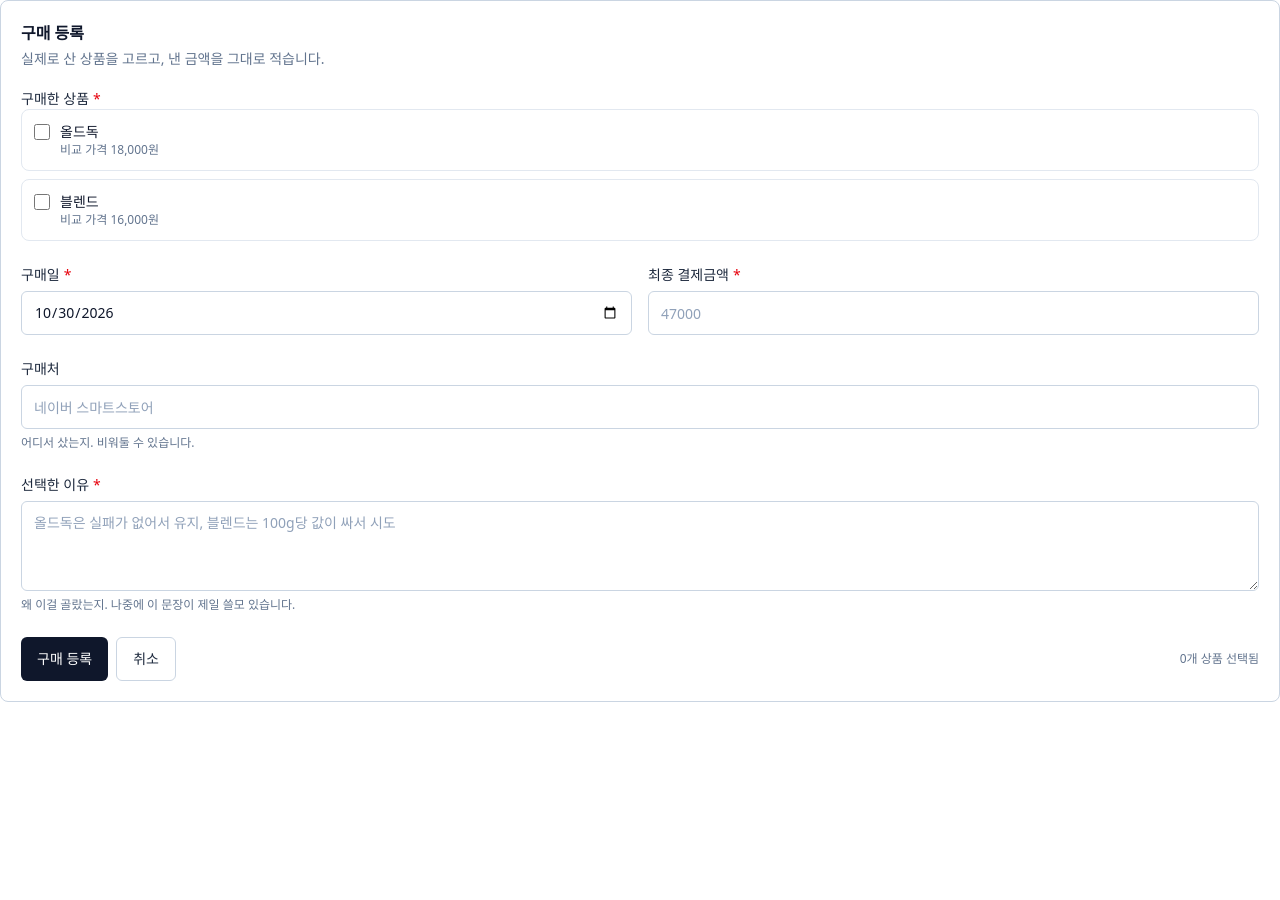
it: 블록 31 — 패널의 첫 모습 › 선택한 상품 개수를 보여준다
expect the text "0개 상품 선택됨" is shown: met, box left=1180, top=651, right=1259, bottom=667
Step 1. Click the checkbox labelled "올드독 비교 가격 18,000원" → click(42, 132), box left=34, top=124, right=50, bottom=140
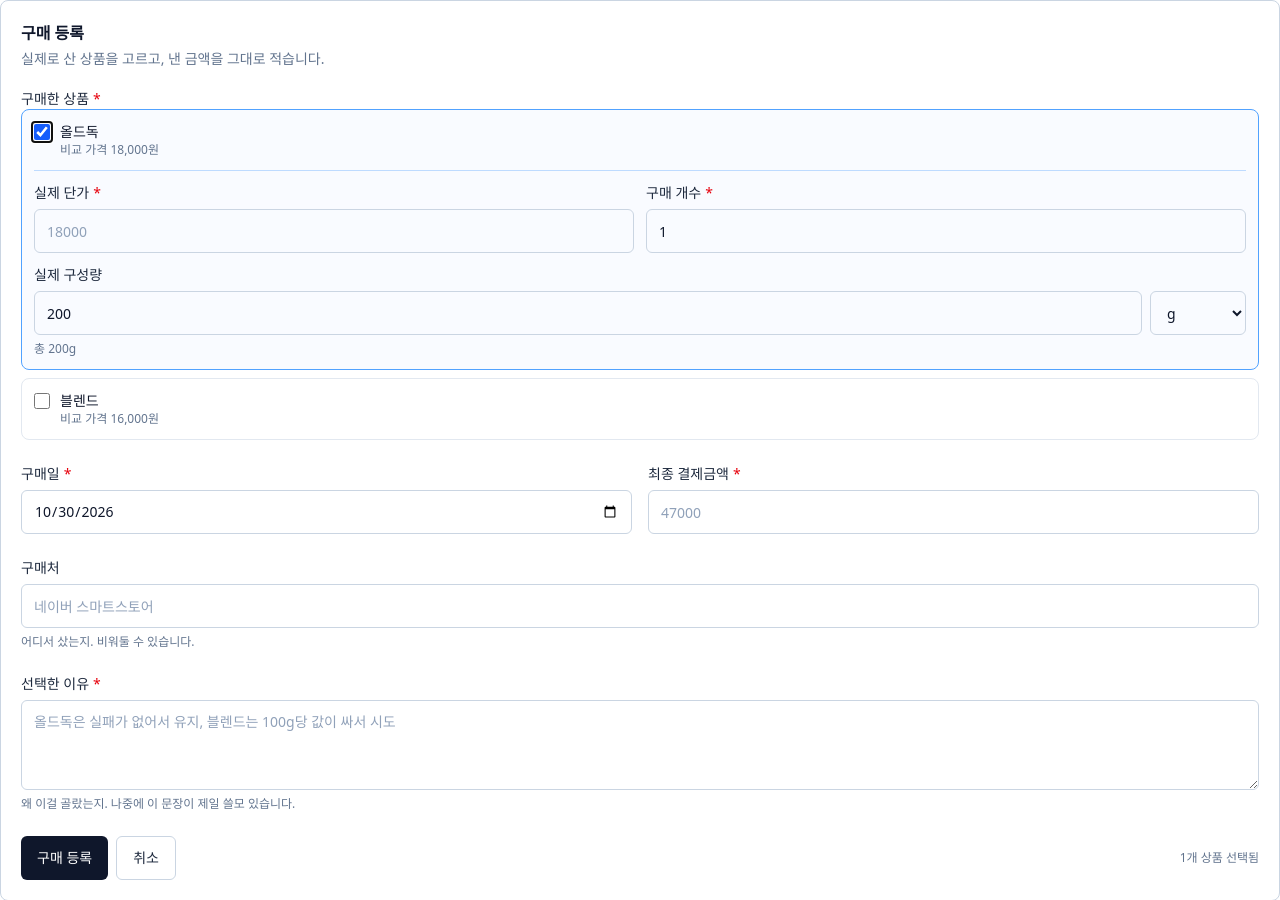
expect the text "1개 상품 선택됨" is shown: met, box left=1180, top=850, right=1259, bottom=866
